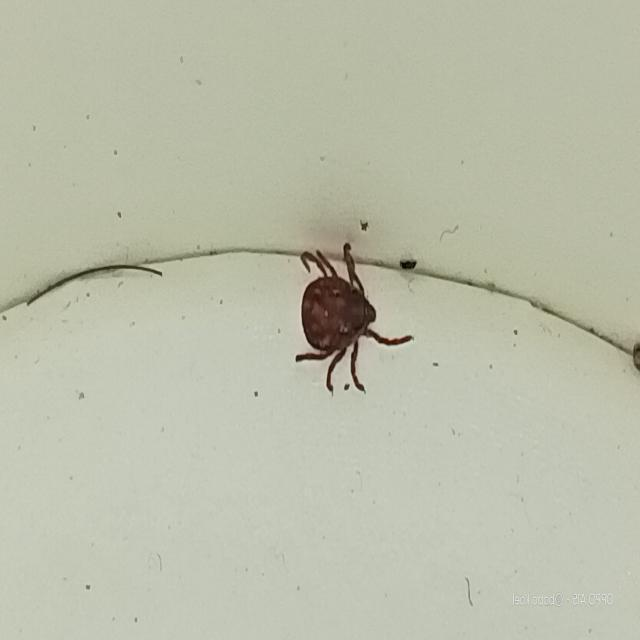Rhipicephalus Sanguineus-M: (296, 245, 413, 393)
